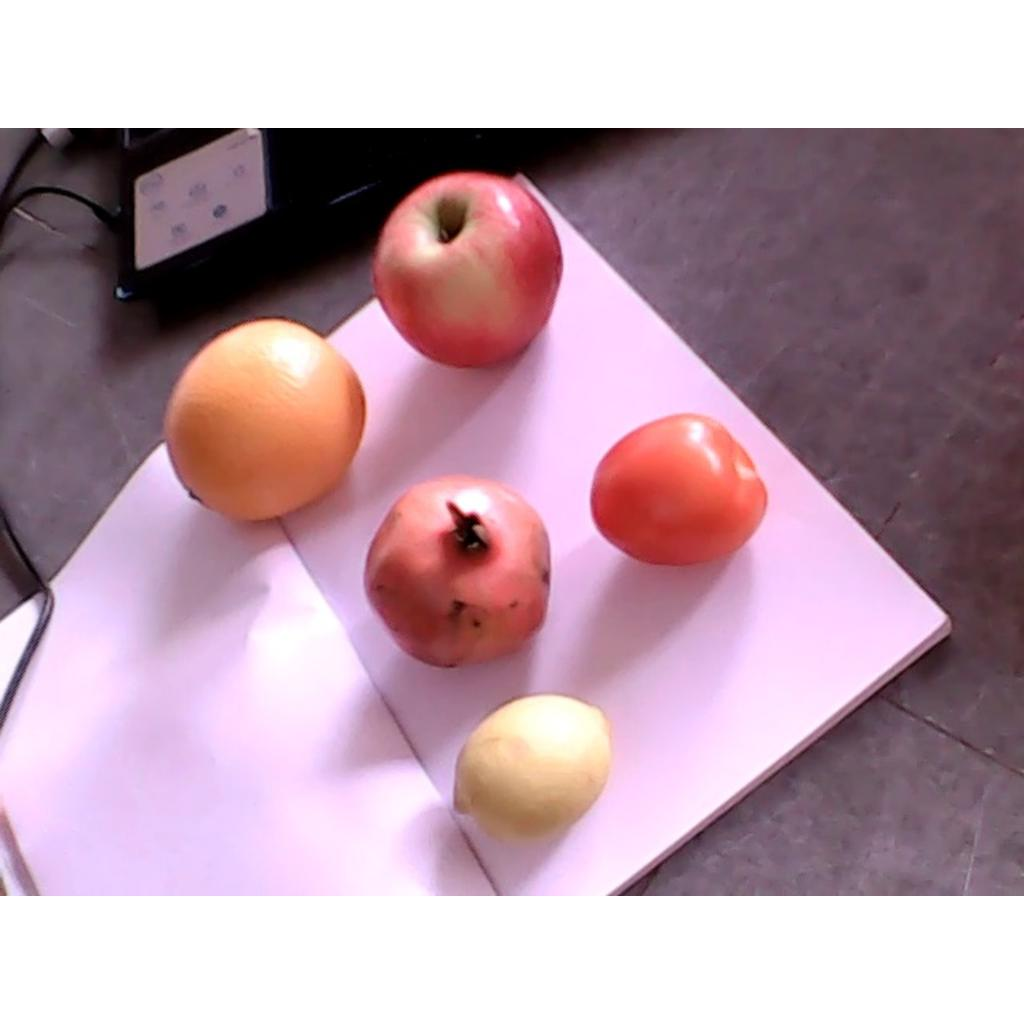apple: (373, 173, 561, 365)
lemon: (453, 693, 610, 836)
orange: (166, 318, 365, 520)
pomegranate: (365, 476, 550, 665)
tomato: (591, 413, 764, 564)
